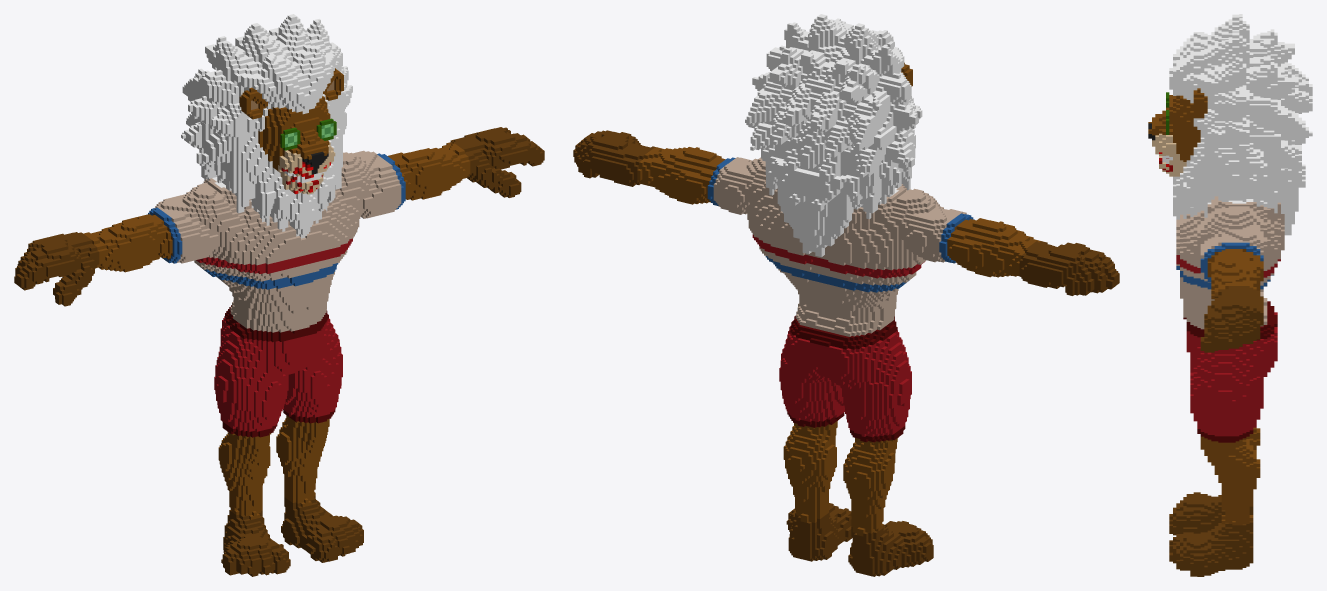
The model's file is 680-Dhksc1Jj.glb.
3 renders of one model, left to right at view 1: azimuth 30°, elevation 25°; view 2: azimuth 150°, elevation 25°; view 3: azimuth 270°, elevation 25°, orthographic. The views are drawn at different scales.
Parts seen in each view (by area): view 1: blood; view 2: blood; view 3: blood.
Boxes of the visible parts, x1,y1,x2,y2 form: blood: (14, 14, 544, 576); blood: (573, 14, 1119, 576); blood: (1148, 14, 1312, 576).
Bounding box in the file's own units: 17.2 × 16.5 × 4.7.
5 materials, 5 textured.
